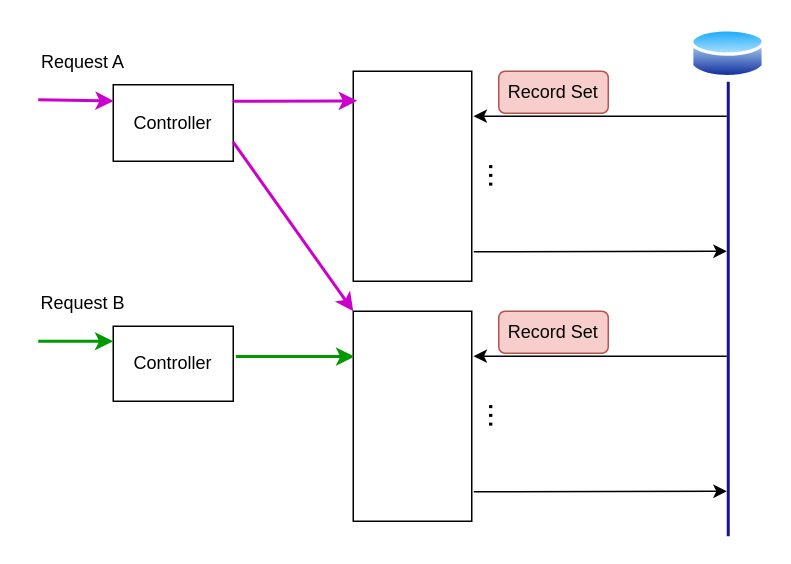
Image size: 791x564. Some labels were removed from this diagram. The shapes that lost their labels are listed below. From the top down, each one's centre as x and y in pixels, then its label:
(x=412, y=175): UserGroups Domain Logic
(x=412, y=415): Investors Domain Logic
